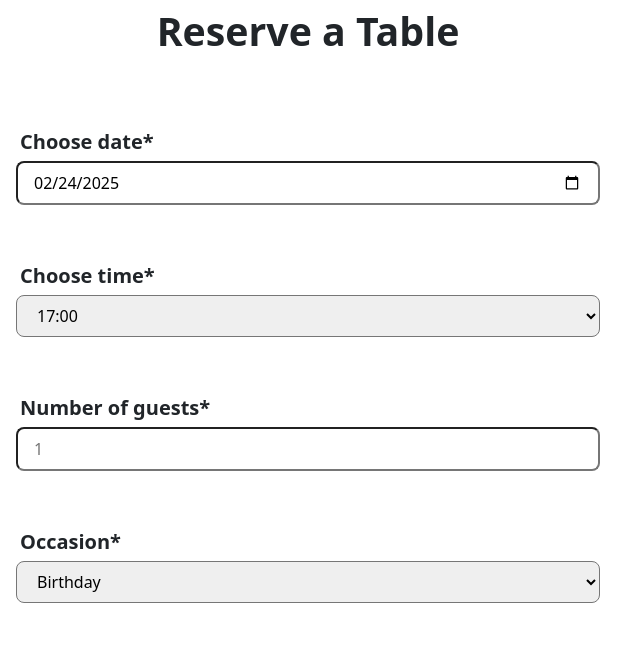
Test case: Testing date input validation › Should show error message when the date has passed
The width and height of the screenshot is (617, 660).
In the date field labelled "Choose date*": (308, 183) top-left (16, 161), bottom-right (600, 205), type "2025-01-01"
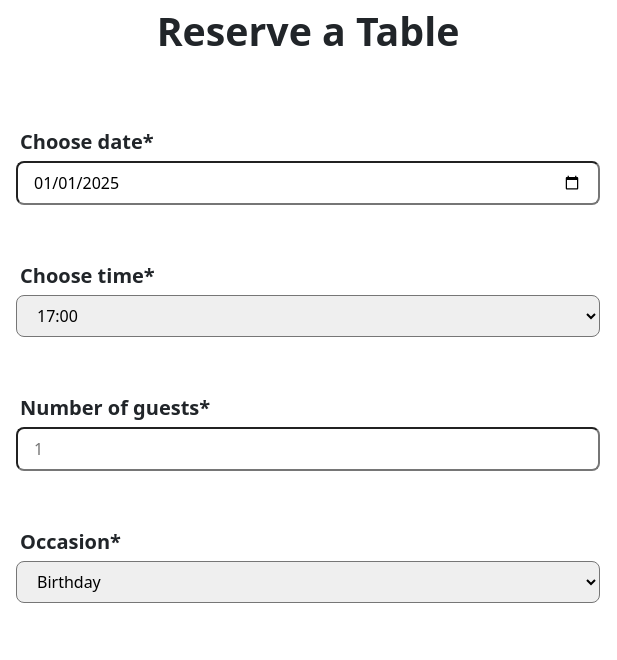
Leave the date field labelled "Choose date*", box top-left (16, 161), bottom-right (600, 205)
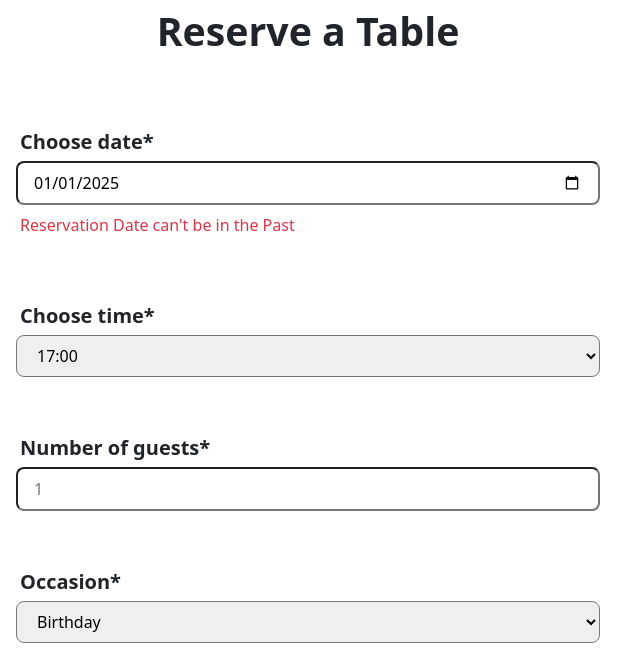
Expected: the text "Reservation Date can't be in the Past" is shown, top-left (20, 214), bottom-right (295, 236)
